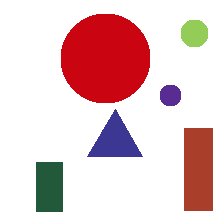circle: (61, 14, 149, 102), (181, 20, 207, 46), (160, 85, 180, 105)
rectangle: (184, 128, 212, 210), (36, 162, 62, 211)
triangle: (87, 109, 142, 156)
